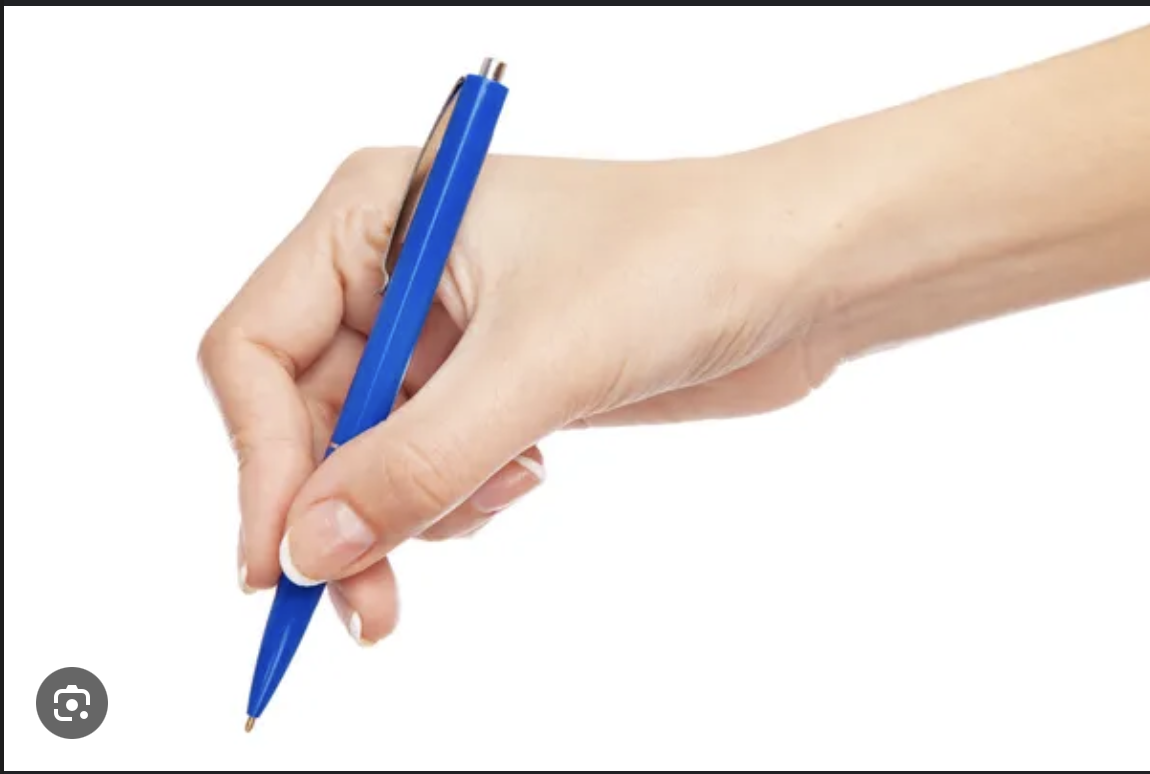pen: (189, 63, 513, 757)
